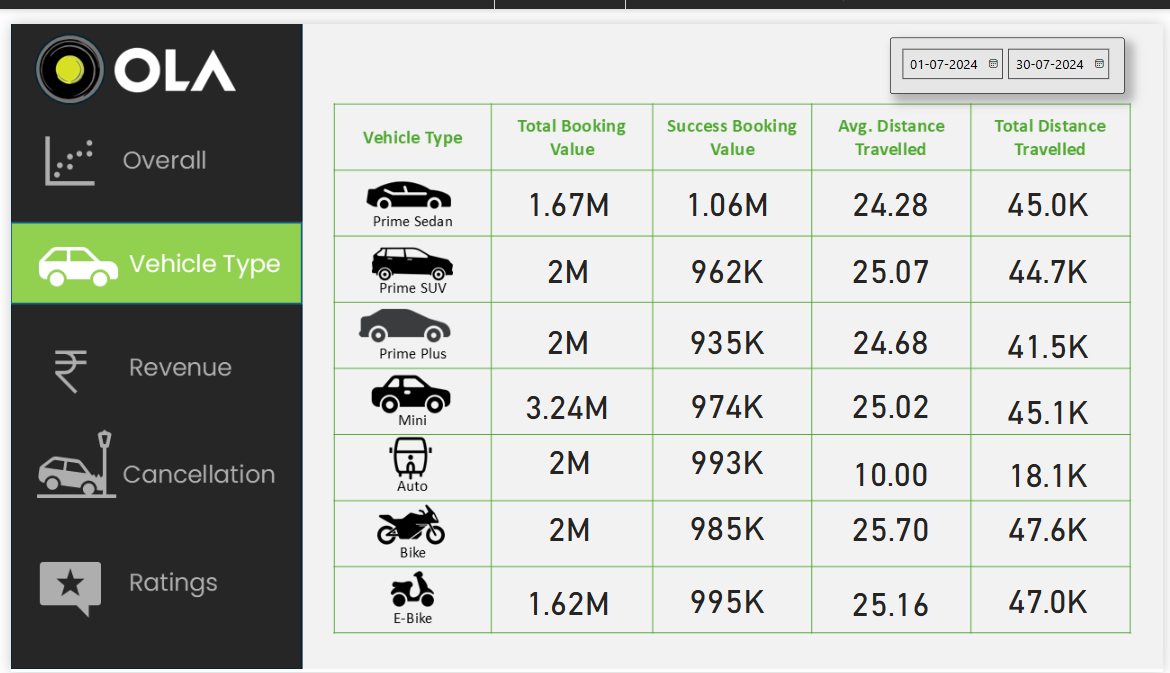

The dashboard page shown, as its layout file describes it:
{"tool":"powerbi","page":{"name":"Vehicle Type","canvas":[1280,720],"ordinal":1},"visuals":[{"type":"actionButton","box":[0,226.1,322.1,92.7],"z":0},{"type":"actionButton","box":[0,328.6,322.1,100.8],"z":1000},{"type":"actionButton","box":[0,453.8,322.1,104.1],"z":2000},{"type":"actionButton","box":[0,588.8,322.1,104.1],"z":3000},{"type":"actionButton","box":[9.8,110.6,312.3,92.7],"z":4000},{"type":"card","fields":{"Values":["Sum(July.Booking_Value)"]},"box":[561.2,165.9,113.9,60.2],"z":5000},{"type":"card","fields":{"Values":["Sum(July.Booking_Value)"]},"box":[561.3,241.9,113.4,60.5],"z":6000},{"type":"card","fields":{"Values":["Sum(July.Booking_Value)"]},"box":[561.3,319.4,113.4,60.5],"z":7000},{"type":"card","fields":{"Values":["Sum(July.Booking_Value)"]},"box":[548,389.3,138,64.3],"z":8000},{"type":"card","fields":{"Values":["Sum(July.Booking_Value)"]},"box":[563.2,453.5,113.4,60.5],"z":9000},{"type":"card","fields":{"Values":["Sum(July.Booking_Value)"]},"box":[563.2,529.1,113.4,60.5],"z":10000},{"type":"card","fields":{"Values":["Sum(July.Booking_Value)"]},"box":[542.4,608.5,153.1,64.3],"z":11000},{"type":"card","fields":{"Values":["Sum(July.Booking_Value)"]},"box":[738.9,166.3,113.4,60.5],"z":12000},{"type":"card","fields":{"Values":["Sum(July.Booking_Value)"]},"box":[738.9,241.9,113.4,60.5],"z":13000},{"type":"card","fields":{"Values":["Sum(July.Booking_Value)"]},"box":[738.9,349.6,113.4,9.4],"z":14000},{"type":"card","fields":{"Values":["Sum(July.Booking_Value)"]},"box":[738.9,319.4,113.4,60.5],"z":15000},{"type":"card","fields":{"Values":["Sum(July.Booking_Value)"]},"box":[738.9,391.2,113.4,60.5],"z":16000},{"type":"card","fields":{"Values":["Sum(July.Booking_Value)"]},"box":[738.9,453.5,113.4,60.5],"z":17000},{"type":"card","fields":{"Values":["Sum(July.Booking_Value)"]},"box":[738.9,527.2,113.4,60.5],"z":18000},{"type":"card","fields":{"Values":["Sum(July.Booking_Value)"]},"box":[738.9,608.5,113.4,60.5],"z":19000},{"type":"card","fields":{"Values":["Avg(July.Ride_Distance)"]},"box":[920.3,166.3,113.4,60.5],"z":20000},{"type":"card","fields":{"Values":["Sum(July.Ride_Distance)"]},"box":[1094.2,166.3,113.4,60.5],"z":21000},{"type":"card","fields":{"Values":["Sum(July.Ride_Distance)"]},"box":[1094.2,241.9,113.4,60.5],"z":22000},{"type":"card","fields":{"Values":["Avg(July.Ride_Distance)"]},"box":[920.3,241.9,113.4,60.5],"z":23000},{"type":"card","fields":{"Values":["Avg(July.Ride_Distance)"]},"box":[920.3,319.4,113.4,60.5],"z":24000},{"type":"card","fields":{"Values":["Avg(July.Ride_Distance)"]},"box":[920.3,391.2,113.4,60.5],"z":25000},{"type":"card","fields":{"Values":["Avg(July.Ride_Distance)"]},"box":[920.3,466.8,113.4,60.5],"z":26000},{"type":"card","fields":{"Values":["Avg(July.Ride_Distance)"]},"box":[920.3,529.1,113.4,60.5],"z":27000},{"type":"card","fields":{"Values":["Avg(July.Ride_Distance)"]},"box":[920.3,612.3,113.4,60.5],"z":28000},{"type":"card","fields":{"Values":["Sum(July.Ride_Distance)"]},"box":[1094.2,325,113.4,60.5],"z":29000},{"type":"card","fields":{"Values":["Sum(July.Ride_Distance)"]},"box":[1094.2,398.7,113.4,60.5],"z":30000},{"type":"card","fields":{"Values":["Sum(July.Ride_Distance)"]},"box":[1094.2,468.7,113.4,60.5],"z":31000},{"type":"card","fields":{"Values":["Sum(July.Ride_Distance)"]},"box":[1094.2,529.1,113.4,60.5],"z":32000},{"type":"card","fields":{"Values":["Sum(July.Ride_Distance)"]},"box":[1094.2,608.5,113.4,60.5],"z":33000},{"type":"slicer","title":"Date","fields":{"Values":["July.Date"]},"box":[977,15.1,260.8,62.4],"z":34000}]}

Visuals, with their boxes on the page's 1280x720 design canvas (x1, y1, x2, y2). These are canvas units, not pixel positions in the 1170x673 screenshot, which may show the page scaled, cropped or inside an application window:
actionButton: rect(0, 226, 322, 319)
actionButton: rect(0, 329, 322, 429)
actionButton: rect(0, 454, 322, 558)
actionButton: rect(0, 589, 322, 693)
actionButton: rect(10, 111, 322, 203)
card - Sum(July.Booking_Value): rect(561, 166, 675, 226)
card - Sum(July.Booking_Value): rect(561, 242, 675, 302)
card - Sum(July.Booking_Value): rect(561, 319, 675, 380)
card - Sum(July.Booking_Value): rect(548, 389, 686, 454)
card - Sum(July.Booking_Value): rect(563, 454, 677, 514)
card - Sum(July.Booking_Value): rect(563, 529, 677, 590)
card - Sum(July.Booking_Value): rect(542, 608, 696, 673)
card - Sum(July.Booking_Value): rect(739, 166, 852, 227)
card - Sum(July.Booking_Value): rect(739, 242, 852, 302)
card - Sum(July.Booking_Value): rect(739, 350, 852, 359)
card - Sum(July.Booking_Value): rect(739, 319, 852, 380)
card - Sum(July.Booking_Value): rect(739, 391, 852, 452)
card - Sum(July.Booking_Value): rect(739, 454, 852, 514)
card - Sum(July.Booking_Value): rect(739, 527, 852, 588)
card - Sum(July.Booking_Value): rect(739, 608, 852, 669)
card - Avg(July.Ride_Distance): rect(920, 166, 1034, 227)
card - Sum(July.Ride_Distance): rect(1094, 166, 1208, 227)
card - Sum(July.Ride_Distance): rect(1094, 242, 1208, 302)
card - Avg(July.Ride_Distance): rect(920, 242, 1034, 302)
card - Avg(July.Ride_Distance): rect(920, 319, 1034, 380)
card - Avg(July.Ride_Distance): rect(920, 391, 1034, 452)
card - Avg(July.Ride_Distance): rect(920, 467, 1034, 527)
card - Avg(July.Ride_Distance): rect(920, 529, 1034, 590)
card - Avg(July.Ride_Distance): rect(920, 612, 1034, 673)
card - Sum(July.Ride_Distance): rect(1094, 325, 1208, 386)
card - Sum(July.Ride_Distance): rect(1094, 399, 1208, 459)
card - Sum(July.Ride_Distance): rect(1094, 469, 1208, 529)
card - Sum(July.Ride_Distance): rect(1094, 529, 1208, 590)
card - Sum(July.Ride_Distance): rect(1094, 608, 1208, 669)
"Date" slicer: rect(977, 15, 1238, 78)
